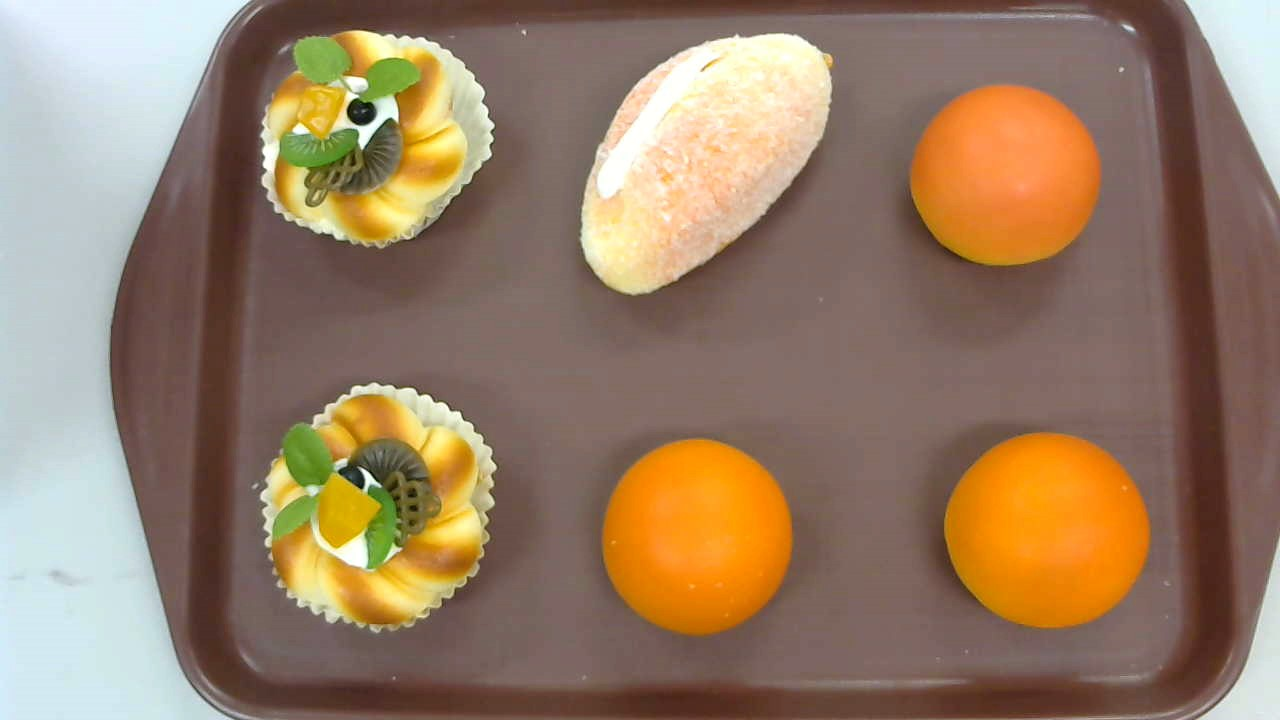bun: (943, 432, 1149, 628), (602, 437, 791, 635), (908, 83, 1103, 266)
coconut: (579, 33, 834, 297)
fruit tart: (258, 380, 497, 634), (258, 28, 494, 249)
